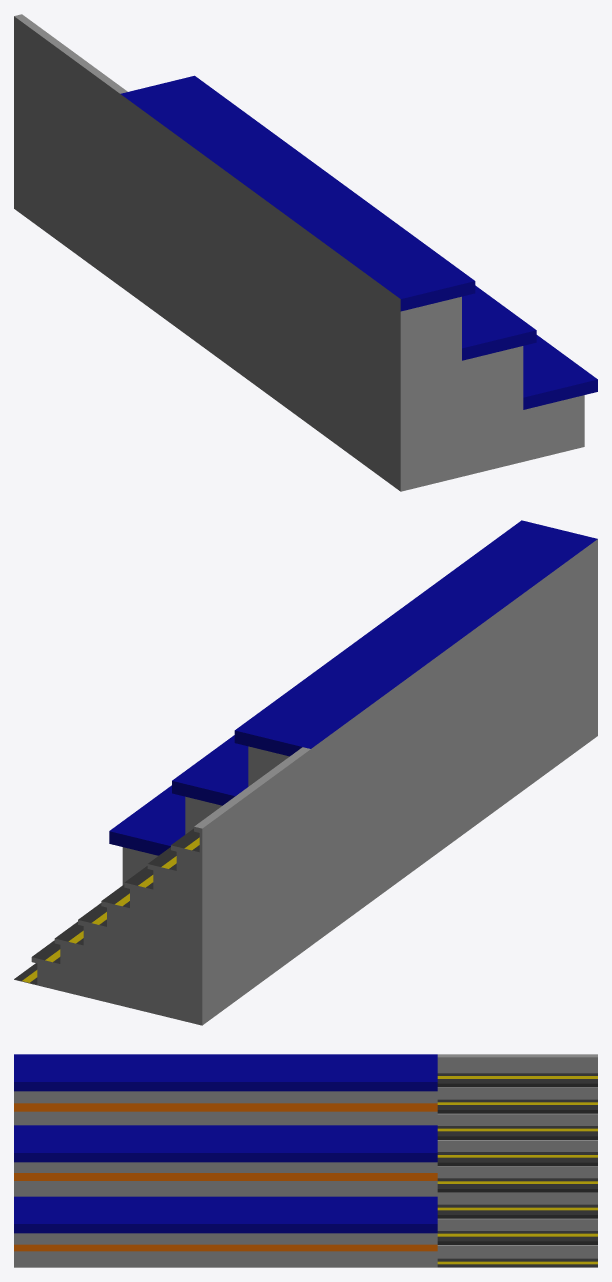
The model's file is ARQUIBANCADA_INFINITA_ARENA.fbx.
3 views of the same model, one above another, from view 1: azimuth 30°, elevation 25°; view 2: azimuth 150°, elevation 25°; view 3: azimuth 270°, elevation 25° (orthographic). The views are drawn at different scales.
Parts seen in each view (by area): view 1: arquibancada; view 2: arquibancada; view 3: arquibancada.
Part boxes in pixels (box(x1,y1,x2,y2)): arquibancada: box(14, 14, 597, 491); arquibancada: box(14, 520, 597, 1025); arquibancada: box(14, 1054, 597, 1267).
Size of the model in its own units: 214 by 200 by 728.
